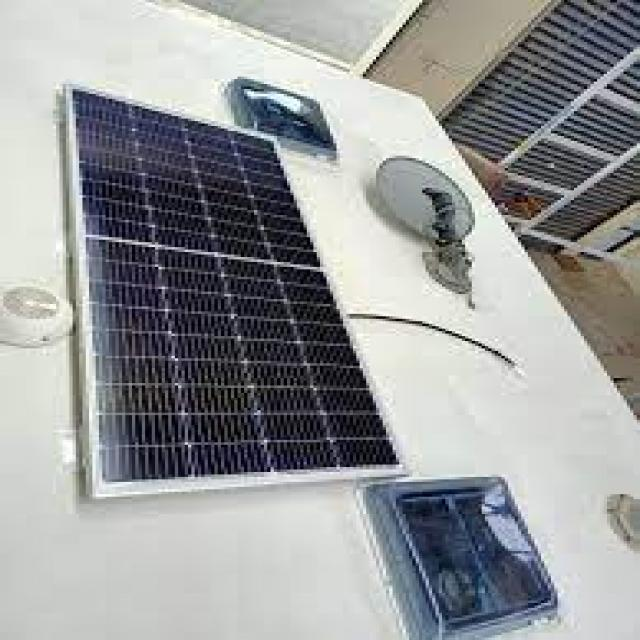no faulty: (77, 92, 391, 491)
